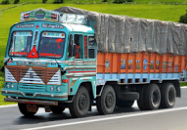truck: (2, 4, 187, 123)
